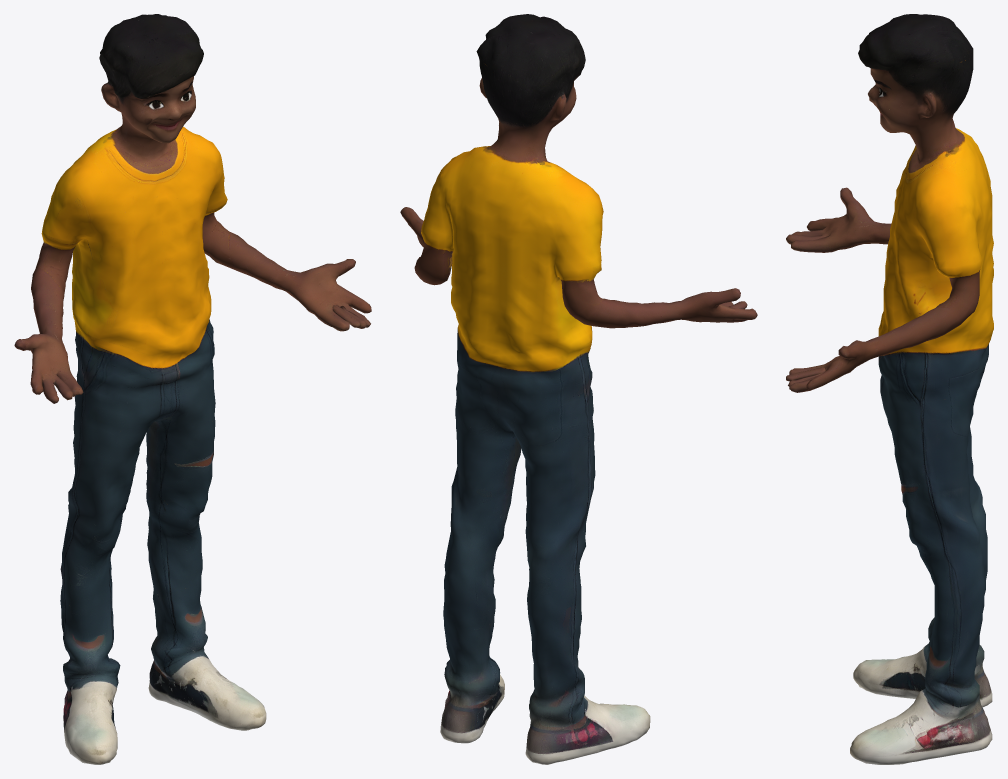
Rendered from Meshy_AI_Stylized_semi_realist_0424223143_texture.glb.
3 views of the same model, side by side, from view 1: azimuth 30°, elevation 25°; view 2: azimuth 150°, elevation 25°; view 3: azimuth 270°, elevation 25° (orthographic).
Bounding box in the file's own units: 0.9589 × 1.9 × 0.5088.
1 material, 1 textured.
